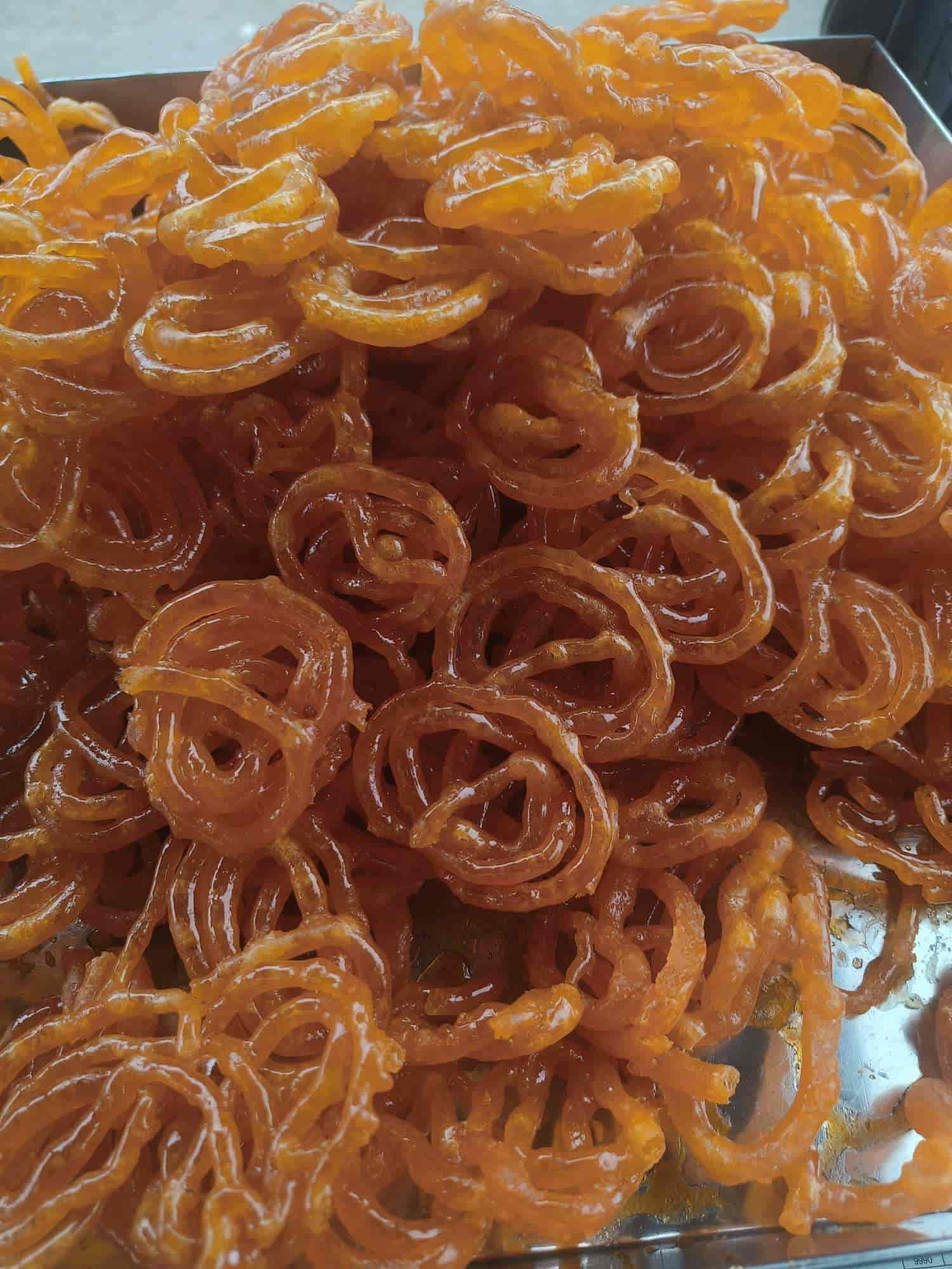jalebi: (10, 30, 952, 1269)
